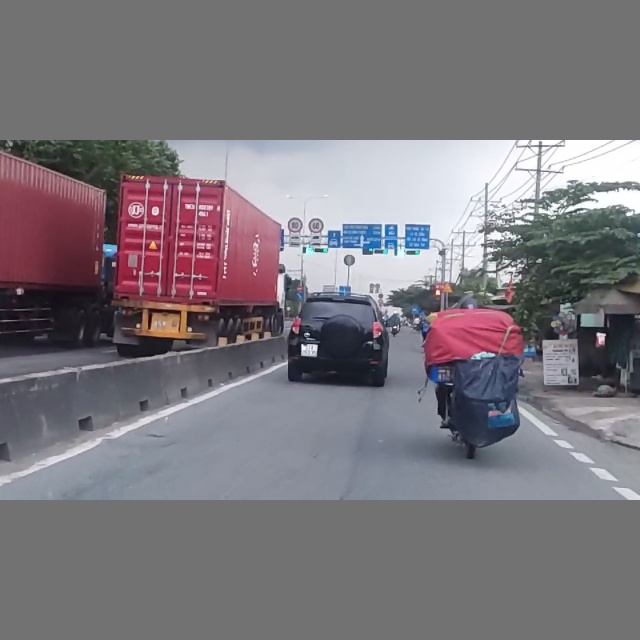P.102: (296, 285, 303, 291)
P.127*60: (307, 217, 325, 234)
P.127*80: (288, 217, 303, 233)
R.302a: (295, 292, 303, 299)
